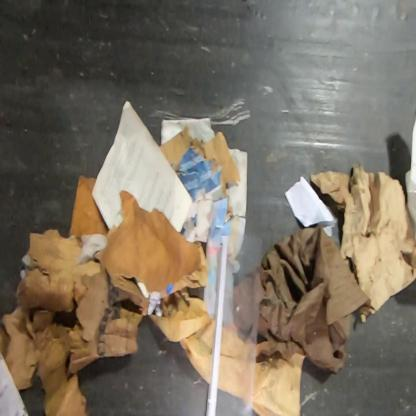cardboard: (0, 227, 150, 416), (309, 161, 415, 325), (158, 126, 241, 202), (69, 172, 110, 238)
soft_plastic: (204, 233, 264, 416)
